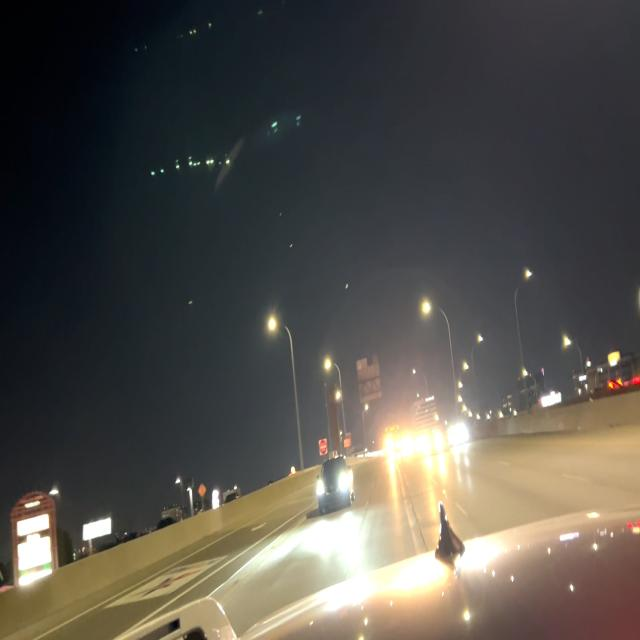back-of-sign: (356, 354, 383, 407)
